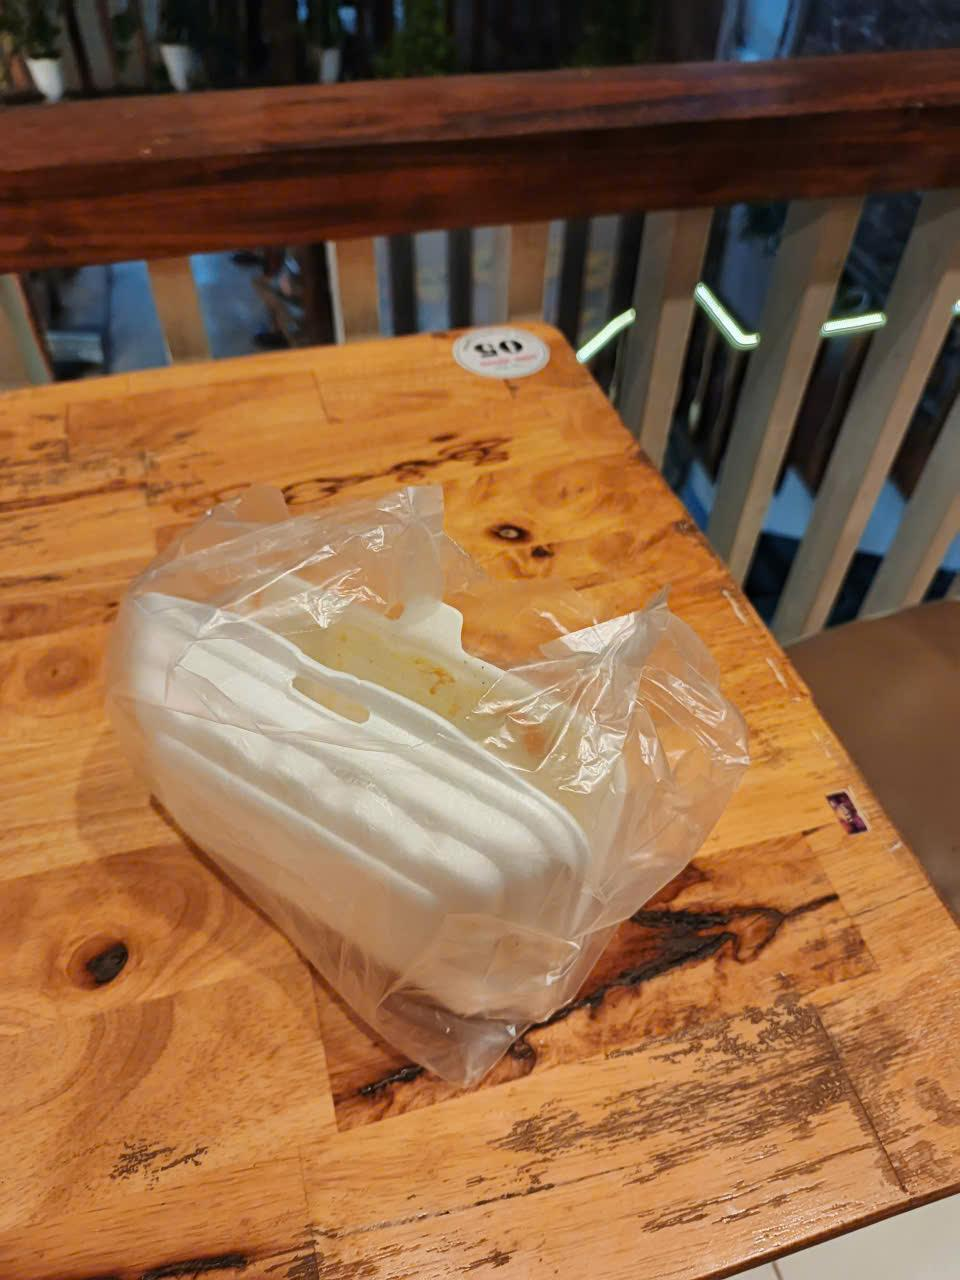Con lai: (115, 481, 760, 1068)
